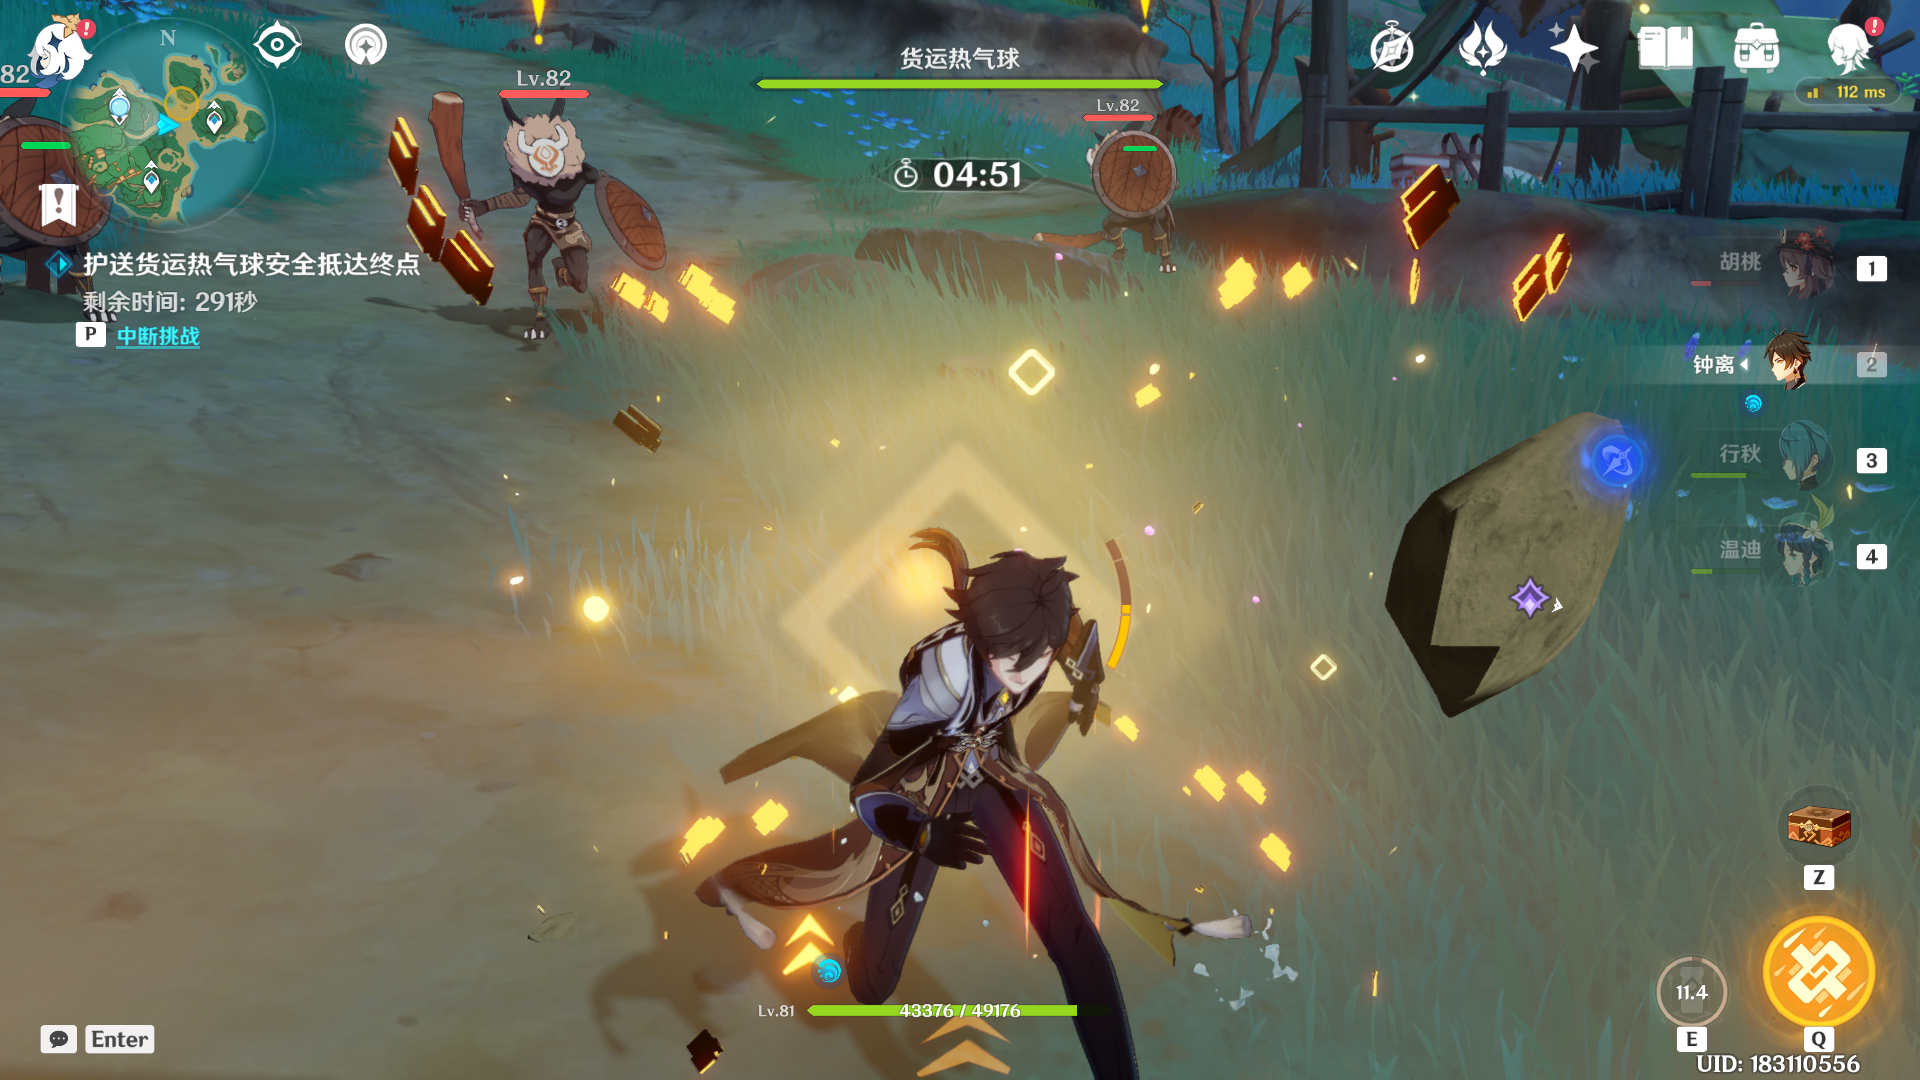character: (741, 488, 1245, 1080)
hili: (413, 62, 695, 360), (1065, 113, 1212, 277)
